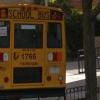Bus: (2, 1, 70, 100)
